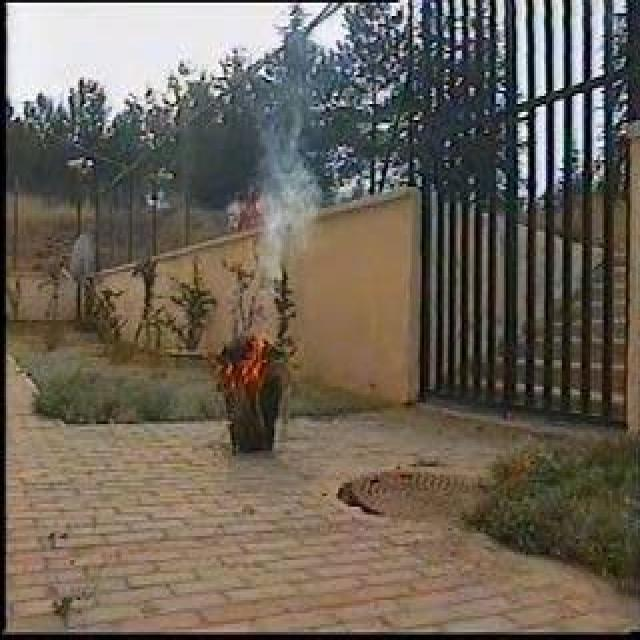smoke: (254, 97, 320, 255)
